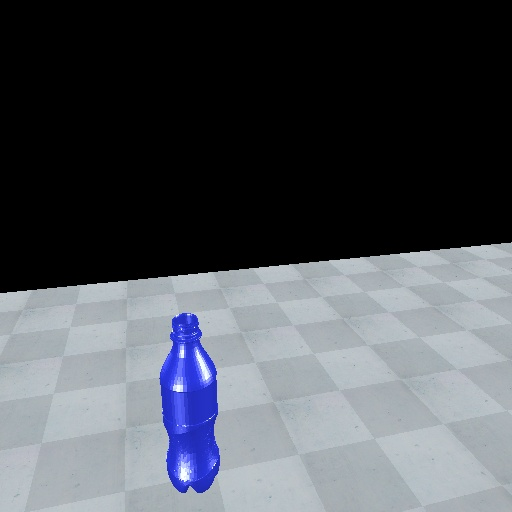bottle: (157, 310, 224, 495)
